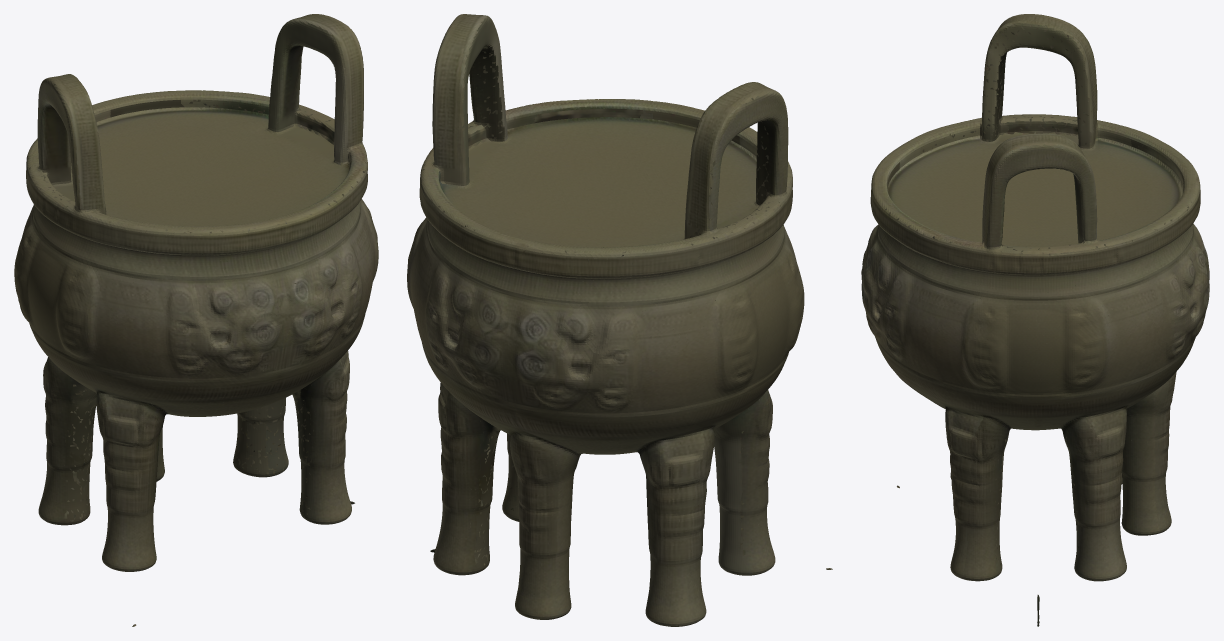
The model's file is tmp9bbk5jyz.glb.
The picture shows the model from 3 angles, left to right: view 1: azimuth 30°, elevation 25°; view 2: azimuth 150°, elevation 25°; view 3: azimuth 270°, elevation 25°; orthographic projection. The views are drawn at different scales.
Parts seen in each view (by area): view 1: geometry_0; view 2: geometry_0; view 3: geometry_0.
Boxes of the visible parts, bbox=[...] form: geometry_0: bbox=[14, 14, 378, 626]; geometry_0: bbox=[407, 14, 832, 626]; geometry_0: bbox=[861, 14, 1209, 626].
Size of the model in its own units: 1.34 by 1.99 by 1.32.
Materials: 1 (1 with a texture image).
